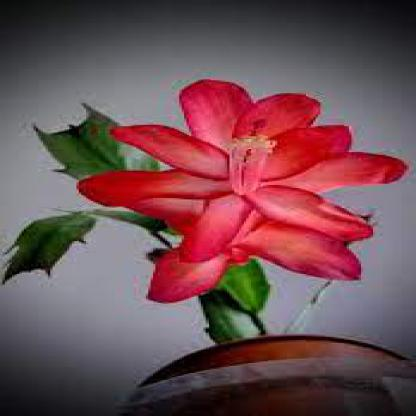Aglonema: (25, 82, 403, 264), (70, 250, 408, 415)
